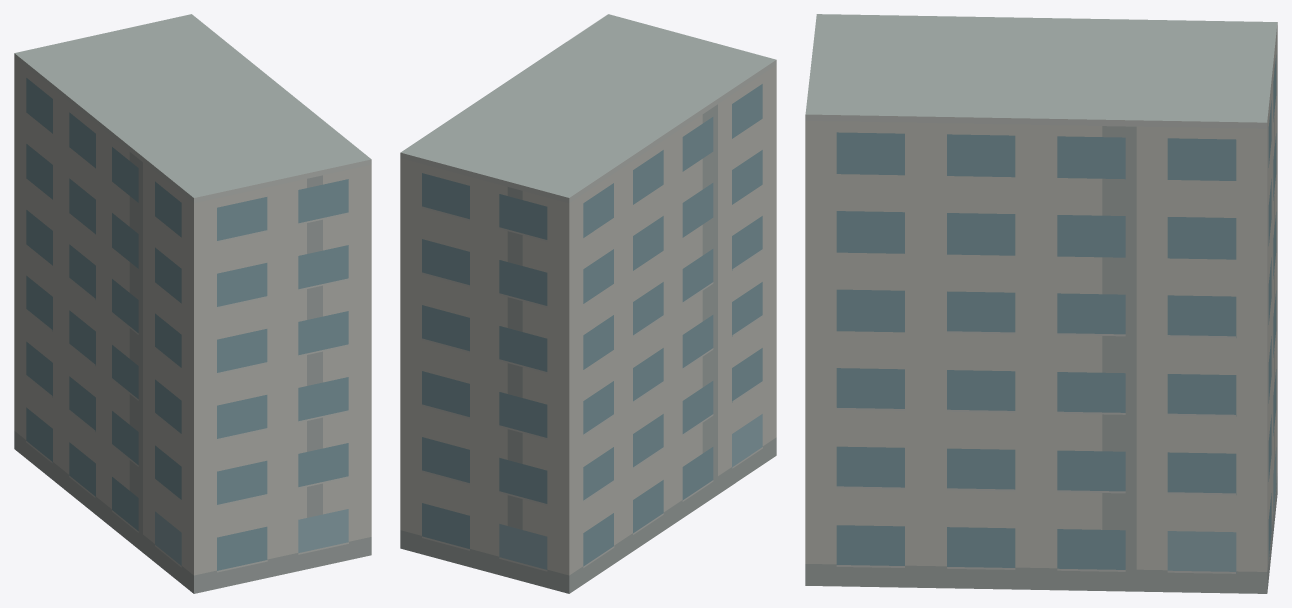
Rendered from survey-upis-32905903.glb.
3 views of the same model, side by side, from view 1: azimuth 30°, elevation 25°; view 2: azimuth 150°, elevation 25°; view 3: azimuth 270°, elevation 25° (orthographic). The views are drawn at different scales.
Parts seen in each view (by area): view 1: survey-upis-32905903.tmp; view 2: survey-upis-32905903.tmp; view 3: survey-upis-32905903.tmp.
Part boxes in pixels (x1=…): survey-upis-32905903.tmp: x1=14, y1=14, x2=371, y2=593; survey-upis-32905903.tmp: x1=400, y1=14, x2=776, y2=593; survey-upis-32905903.tmp: x1=805, y1=14, x2=1277, y2=593.
Bounding box in the file's own units: 8.96 × 18.1 × 16.44.
